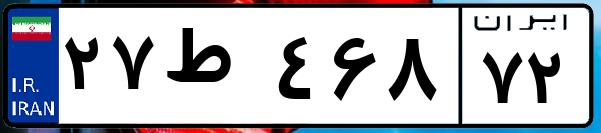2: (57, 26, 110, 100), (525, 38, 570, 115)
4: (270, 28, 330, 110)
6: (330, 28, 385, 110)
7: (475, 38, 525, 113), (110, 28, 158, 98)
8: (385, 28, 445, 110)
ط: (158, 20, 270, 120)
